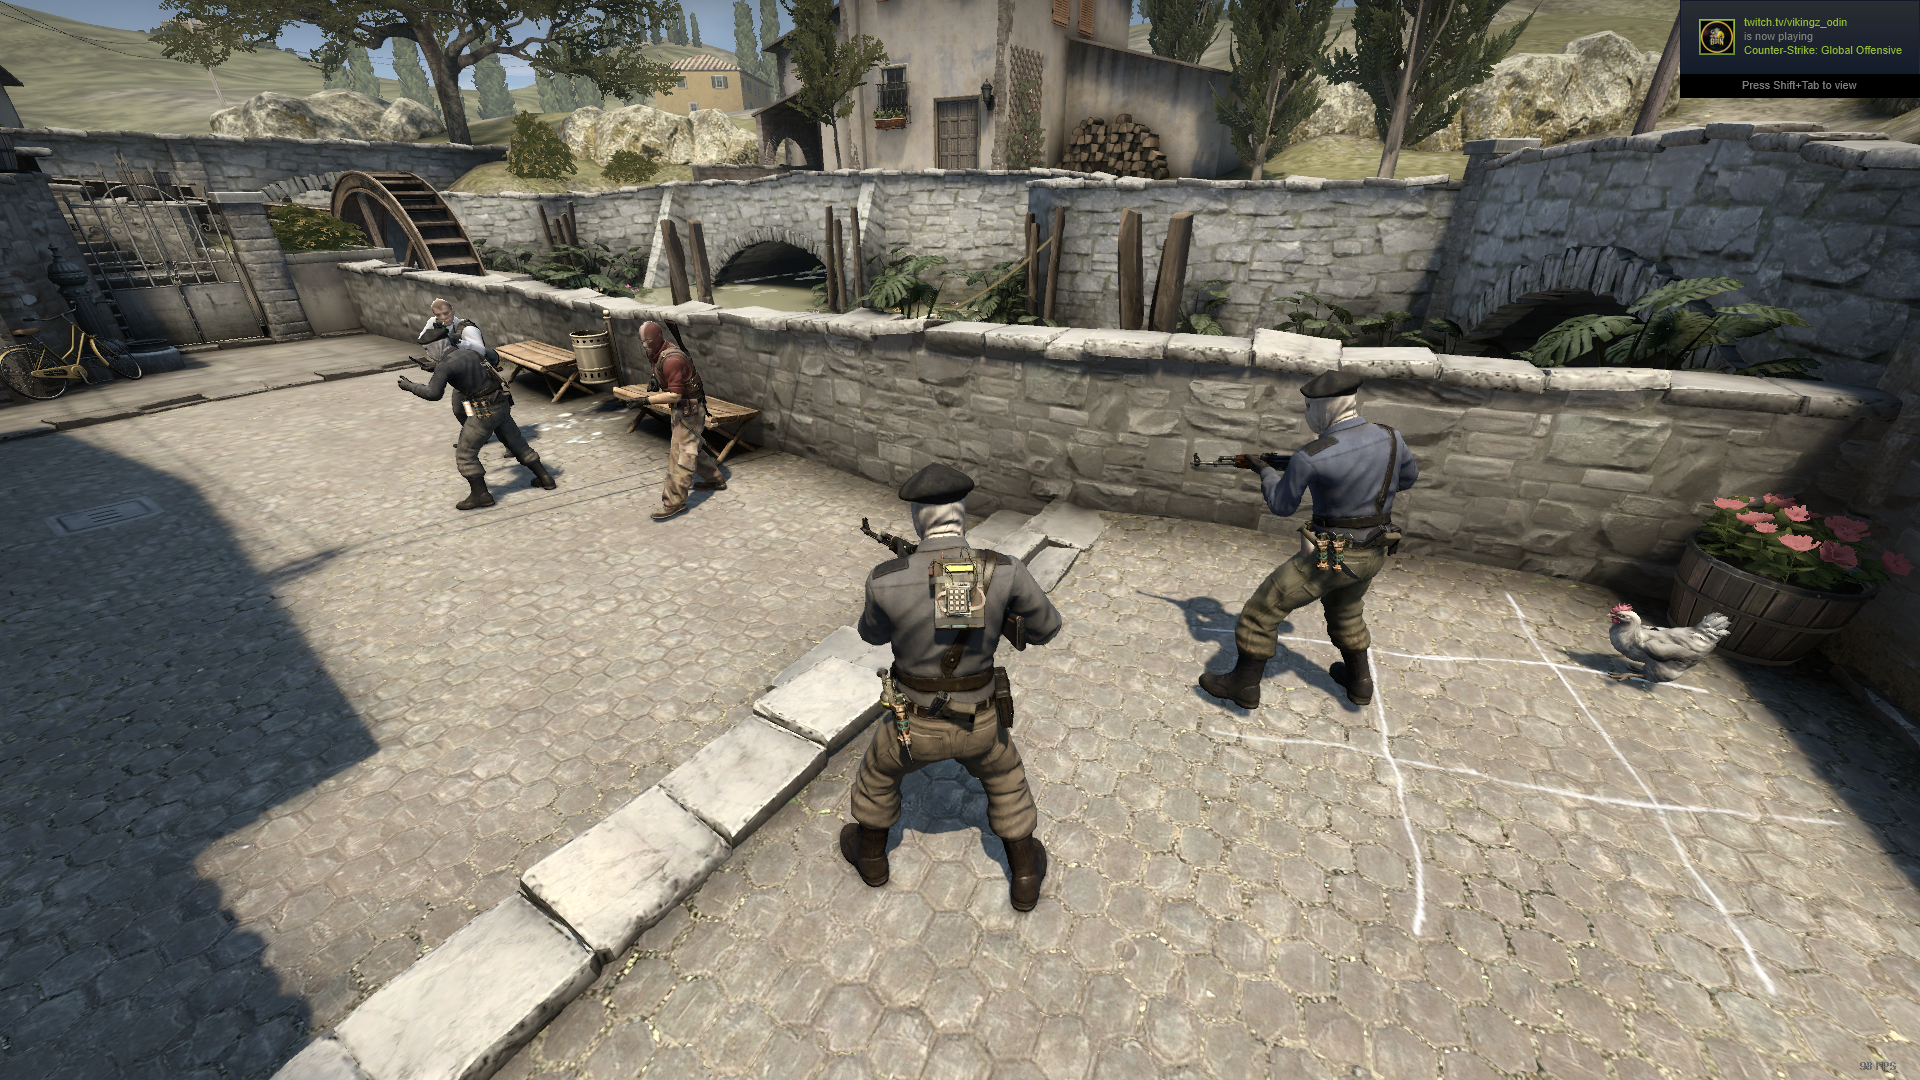t: (815, 455, 1077, 922), (1205, 372, 1427, 741)
